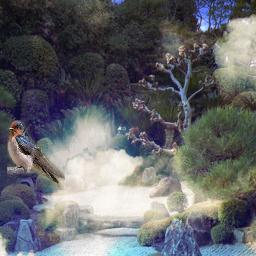Swallow: (7, 120, 65, 190)
